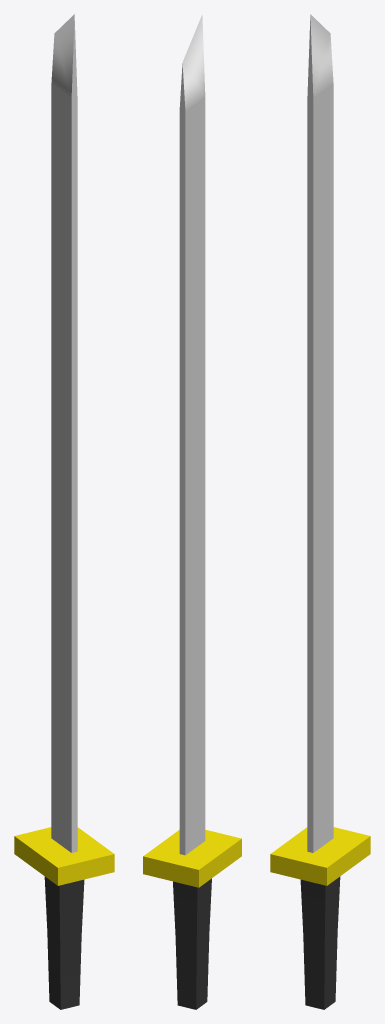
Rendered from Katana (con FBX).fbx.
The picture shows the model from 3 angles, left to right: view 1: azimuth 30°, elevation 25°; view 2: azimuth 150°, elevation 25°; view 3: azimuth 330°, elevation 25°; orthographic projection.
Visible parts, largest first — view 1: pCube1; view 2: pCube1; view 3: pCube1.
Boxes of the visible parts, bbox=[...] form: pCube1: bbox=[14, 14, 114, 1009]; pCube1: bbox=[143, 15, 241, 1009]; pCube1: bbox=[270, 14, 370, 1009].
Size of the model in its own units: 0.141 by 2.37 by 0.1877.
Materials: 1 (1 with a texture image).
